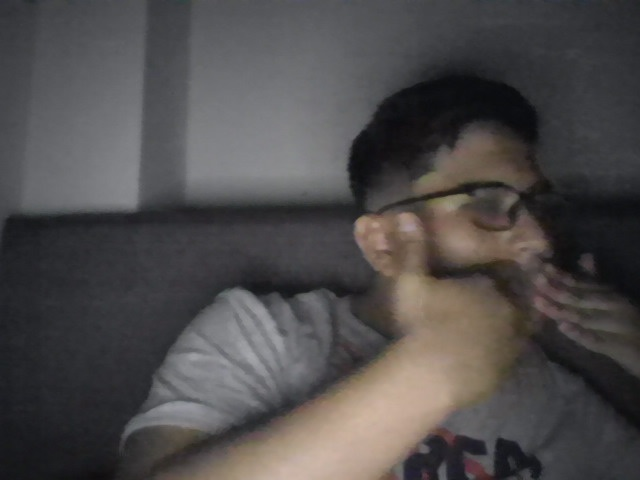Thanks: (368, 199, 640, 429)
